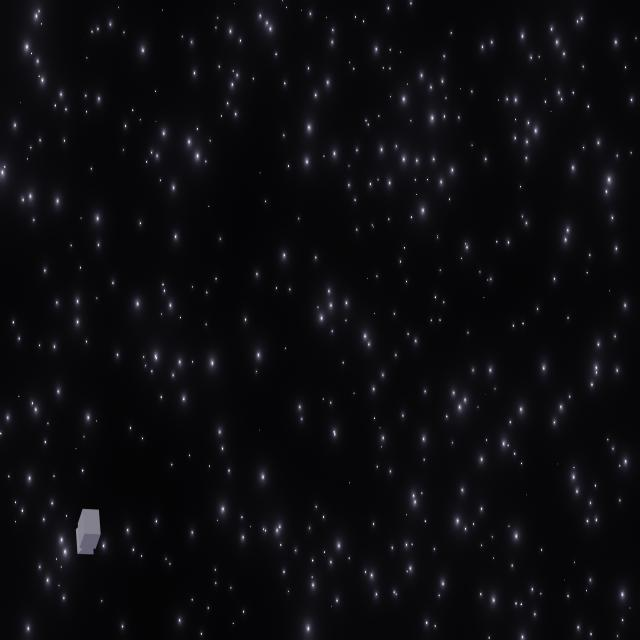large_debris: (72, 508, 103, 558)
